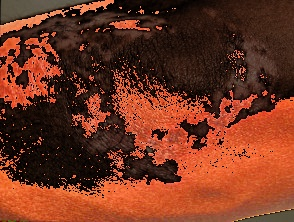vitiligo: (0, 0, 292, 216)
